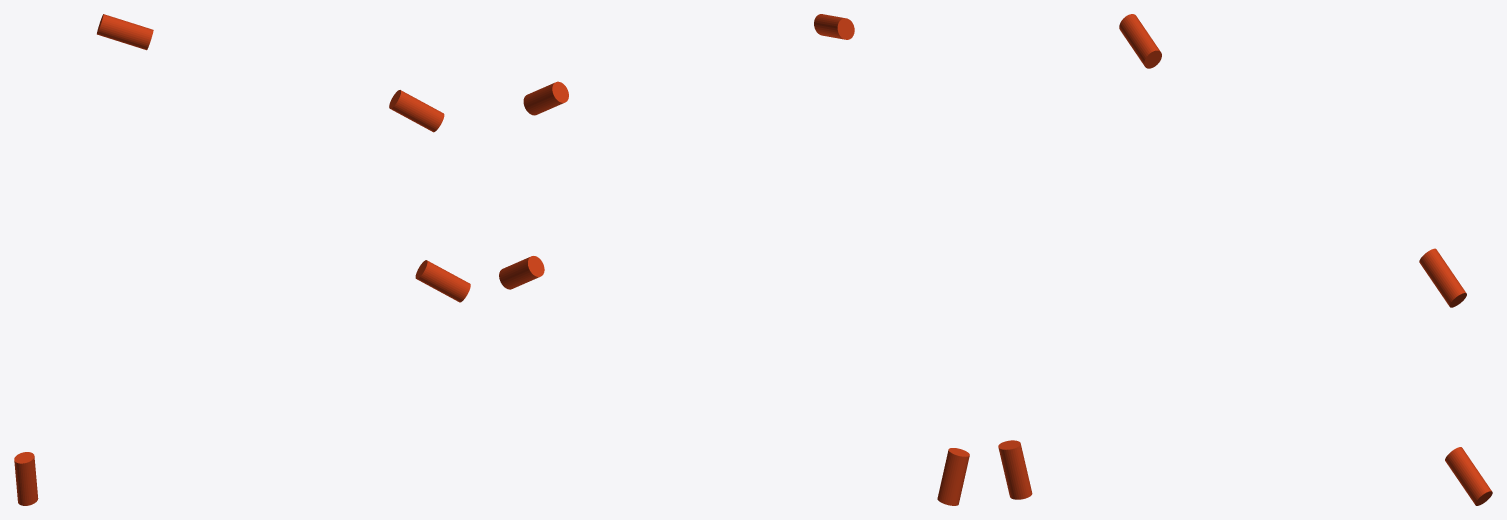
3 renders of one model, left to right at view 1: azimuth 30°, elevation 25°; view 2: azimuth 150°, elevation 25°; view 3: azimuth 330°, elevation 25°, orthographic. The views are drawn at different scales.
Size of the model in its own units: 0.5799 by 0.558 by 0.0591.
